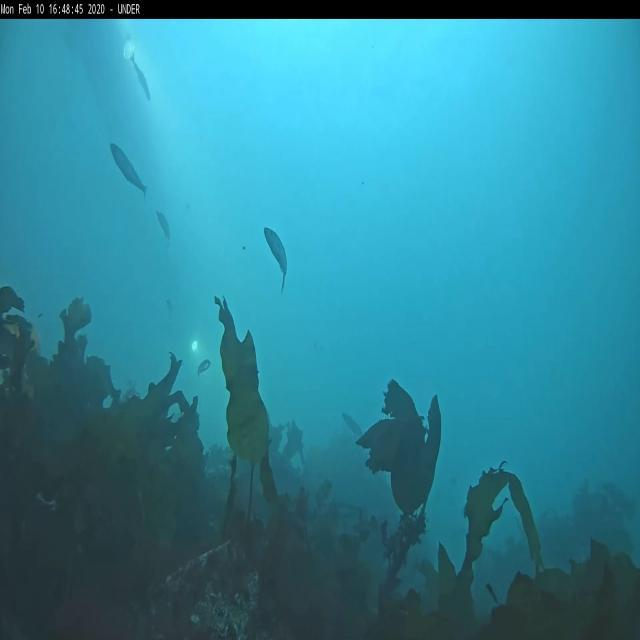fish: (110, 144, 146, 198), (263, 226, 287, 291), (130, 53, 151, 101), (156, 210, 172, 246), (197, 358, 211, 376)
